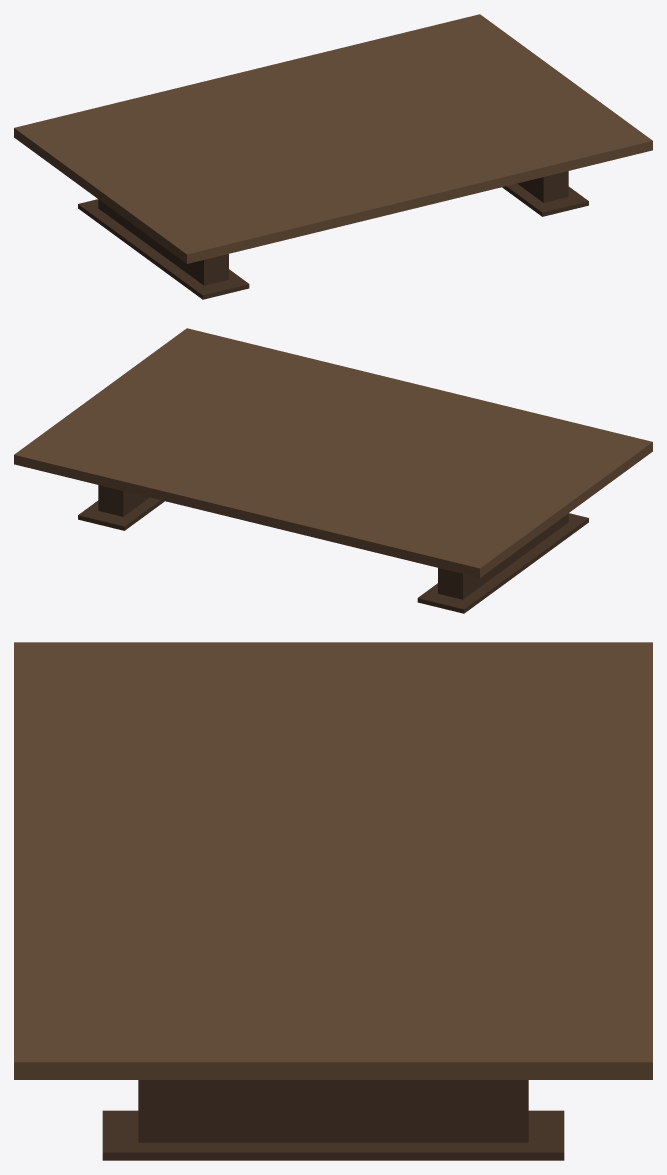
File: conf-table.glb
3 renders of one model, top to bottom at view 1: azimuth 30°, elevation 25°; view 2: azimuth 150°, elevation 25°; view 3: azimuth 270°, elevation 25°, orthographic. The views are drawn at different scales.
Bounding box in the file's own units: 2.8 × 0.417 × 1.8.
